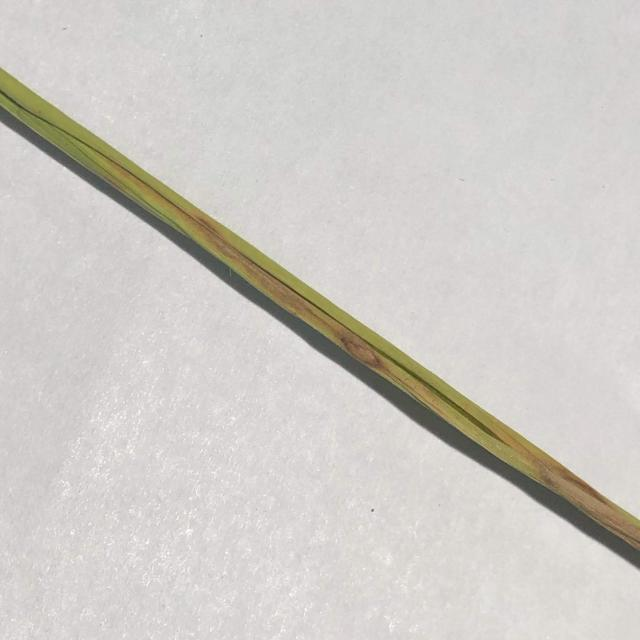Blast: (338, 328, 382, 364)
